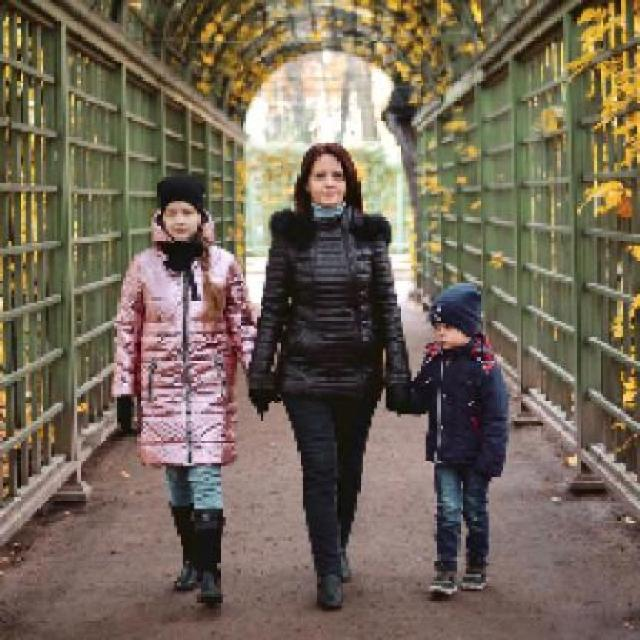child: (412, 282, 508, 598)
